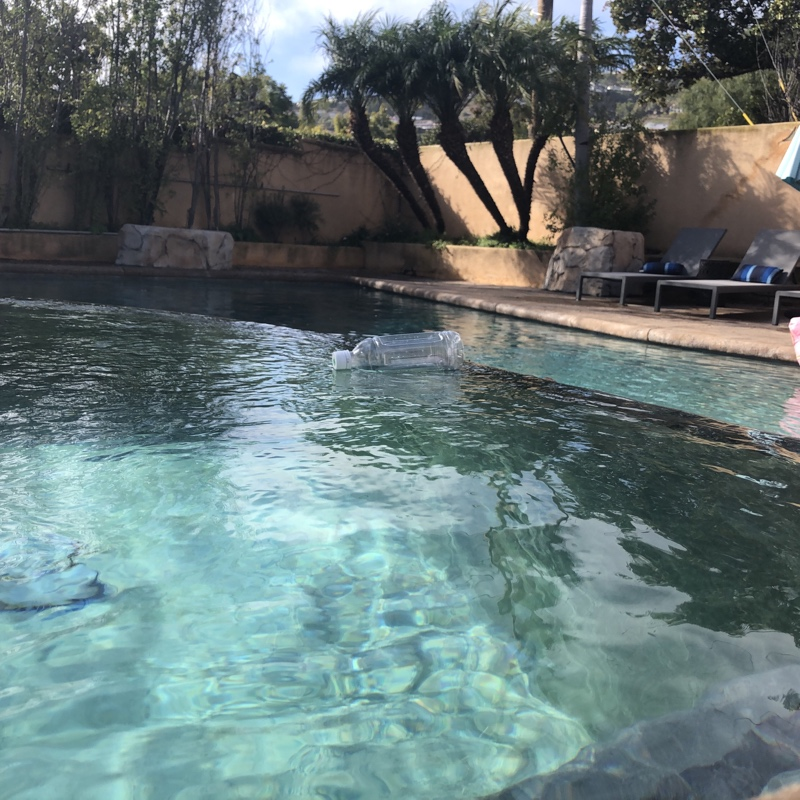Plastic Bottle: (328, 326, 470, 378)
